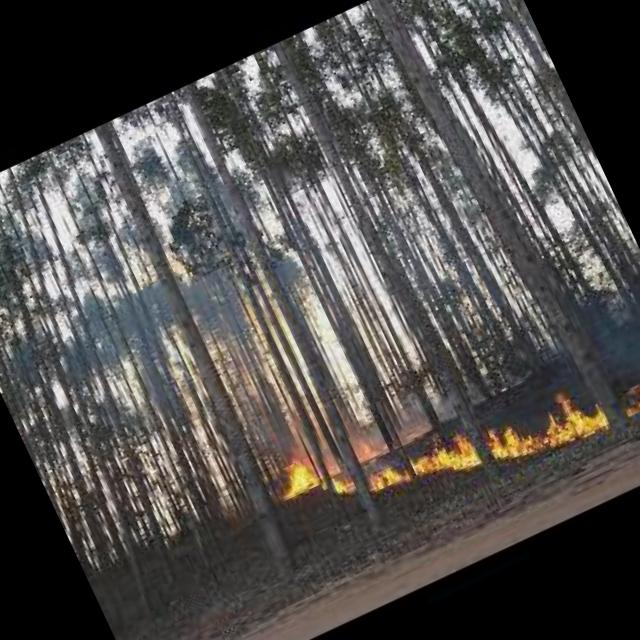fire: (265, 284, 640, 571)
